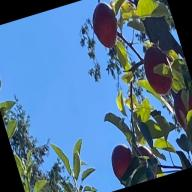Apples: (138, 43, 177, 98), (87, 1, 123, 50), (106, 142, 138, 181), (168, 86, 192, 135), (134, 141, 161, 181)
